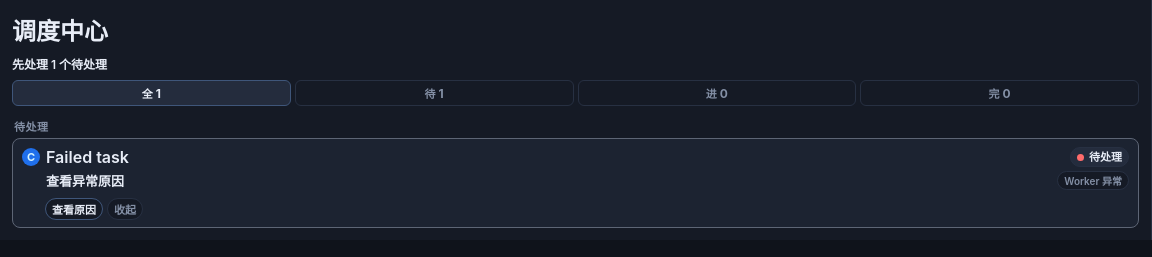
Test: SessionRadar › shows dismissed drawer only in the all filter
Click the button "收起": (125, 209) [107,198,143,220]
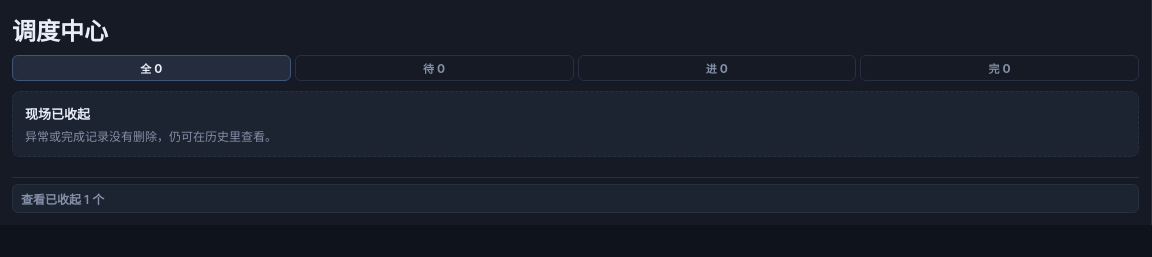
Expected: the button "查看已收起 1 个" is shown, [12,184,1139,213]
Click the button named "待处理": (434, 68) [295,55,574,81]
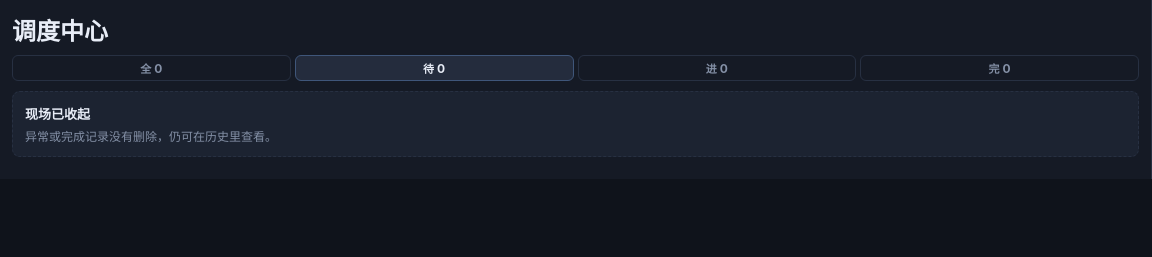
Expected: the button "查看已收起 1 个" is gone
Click the button named "全部": (151, 68) [12,55,291,81]
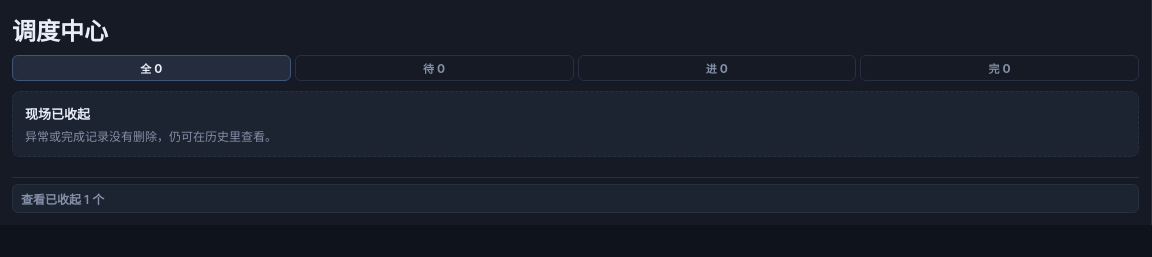
Expected: the button "查看已收起 1 个" is shown, [12,184,1139,213]
